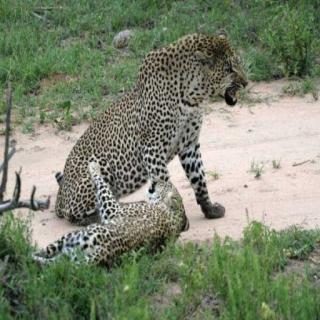Leopard: (62, 34, 275, 222), (14, 172, 211, 266)
